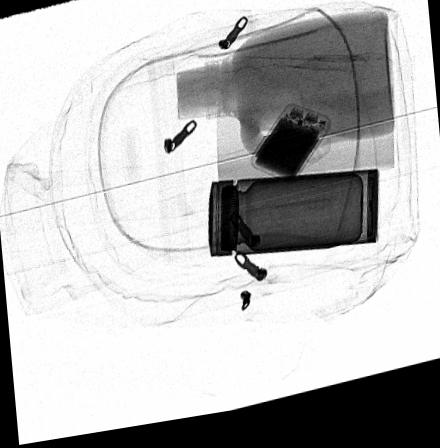Powerbank: (252, 112, 331, 193)
